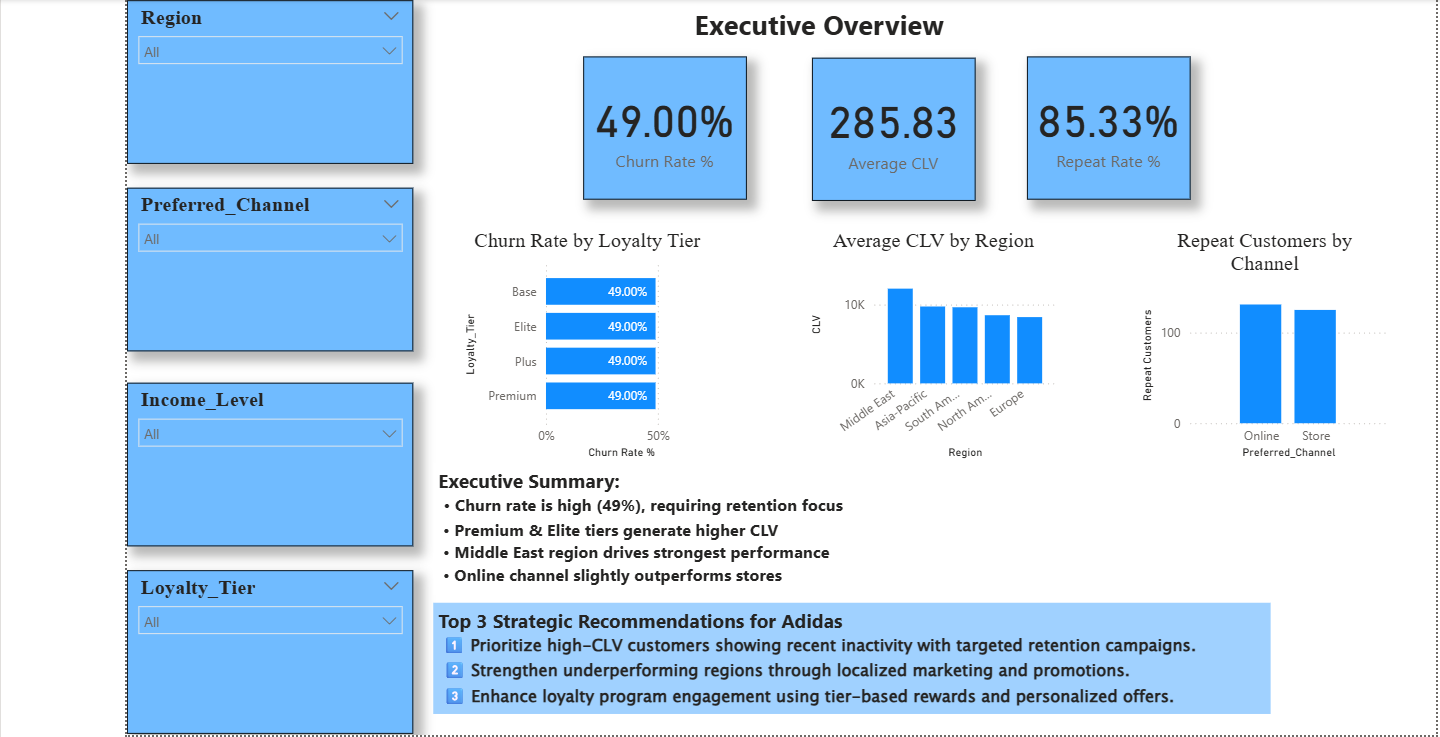

The page's visual inventory and layout, read from the dashboard file:
{"tool":"powerbi","page":{"name":"Executive Overview","canvas":[1280,720],"ordinal":5},"visuals":[{"type":"card","fields":{"Values":["Customer demographics.Churn Rate %"]},"box":[446,56.4,160,140],"z":0},{"type":"card","fields":{"Values":["Customer demographics.Average CLV"]},"box":[670.1,57.2,160,140],"z":1000},{"type":"card","fields":{"Values":["Customer demographics.Repeat Rate %"]},"box":[880.9,56.4,160,140],"z":2000},{"type":"barChart","title":"Churn Rate by Loyalty Tier","fields":{"Category":["Loyalty metadata.Loyalty_Tier"],"Y":["Customer demographics.Churn Rate %"]},"box":[325.3,224.4,250,230],"z":3000},{"type":"clusteredColumnChart","title":"Average CLV by Region","fields":{"Category":["Customer demographics.Region"],"Y":["Customer demographics.CLV"]},"box":[664.1,224.4,250,230],"z":4000},{"type":"clusteredColumnChart","title":"Repeat Customers by Channel","fields":{"Category":["Customer demographics.Preferred_Channel"],"Y":["Customer demographics.Repeat Customers"]},"box":[988.5,224.4,250,230],"z":5000},{"type":"slicer","fields":{"Values":["Customer demographics.Region"]},"box":[0,1.4,280,160],"z":6000},{"type":"slicer","fields":{"Values":["Customer demographics.Preferred_Channel"]},"box":[0,184.7,280,160],"z":7000},{"type":"slicer","fields":{"Values":["Customer demographics.Income_Level"]},"box":[0,375.1,280,160],"z":8000},{"type":"slicer","fields":{"Values":["Loyalty metadata.Loyalty_Tier"]},"box":[0,558.3,280,160],"z":9000},{"type":"textbox","box":[299.6,453.8,450.9,129.5],"z":10000},{"type":"textbox","box":[299.6,590.5,818.9,109.1],"z":11000},{"type":"textbox","box":[549.8,1.5,261.8,45.1],"z":12000}]}

Visuals, with their boxes on the page's 1280x720 design canvas (x1, y1, x2, y2). These are canvas units, not pixel positions in the 1440x737 screenshot, which may show the page scaled, cropped or inside an application window:
card - Customer demographics.Churn Rate %: Rect(446, 56, 606, 196)
card - Customer demographics.Average CLV: Rect(670, 57, 830, 197)
card - Customer demographics.Repeat Rate %: Rect(881, 56, 1041, 196)
"Churn Rate by Loyalty Tier" barChart: Rect(325, 224, 575, 454)
"Average CLV by Region" clusteredColumnChart: Rect(664, 224, 914, 454)
"Repeat Customers by Channel" clusteredColumnChart: Rect(988, 224, 1238, 454)
slicer - Customer demographics.Region: Rect(0, 1, 280, 161)
slicer - Customer demographics.Preferred_Channel: Rect(0, 185, 280, 345)
slicer - Customer demographics.Income_Level: Rect(0, 375, 280, 535)
slicer - Loyalty metadata.Loyalty_Tier: Rect(0, 558, 280, 718)
textbox: Rect(300, 454, 750, 583)
textbox: Rect(300, 590, 1118, 700)
textbox: Rect(550, 2, 812, 47)
